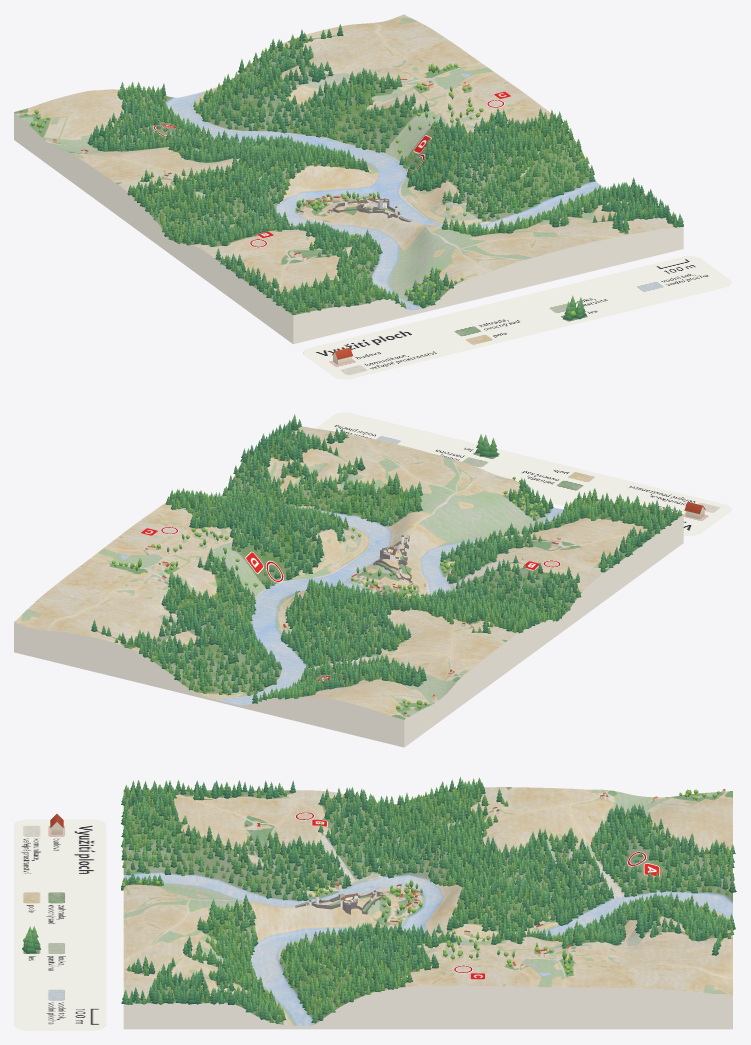
Rendered from Zvikov_sada1_CO.glb.
3 renders of one model, top to bottom at view 1: azimuth 30°, elevation 25°; view 2: azimuth 150°, elevation 25°; view 3: azimuth 270°, elevation 25°, orthographic. The views are drawn at different scales.
Visible parts, largest first — view 1: DMR_1953, Zvikov_stromy_body, legenda_panel, Node0, legenda_objekty; view 2: DMR_1953, Zvikov_stromy_body, legenda_panel, Node0, legenda_objekty; view 3: DMR_1953, Zvikov_stromy_body, legenda_panel, Node0, Budovy_vyber_—_co_final_all_dissolve_budovy, legenda_objekty.
Boxes of the visible parts, <box> form: DMR_1953: <box>14,14,683,344</box>; Zvikov_stromy_body: <box>24,24,683,314</box>; legenda_panel: <box>303,256,731,379</box>; Node0: <box>327,197,411,222</box>; legenda_objekty: <box>332,295,586,365</box>; DMR_1953: <box>14,426,683,747</box>; Zvikov_stromy_body: <box>91,414,682,713</box>; legenda_panel: <box>315,412,731,535</box>; Node0: <box>373,535,413,584</box>; legenda_objekty: <box>475,434,705,519</box>; DMR_1953: <box>123,787,732,1029</box>; Zvikov_stromy_body: <box>121,776,736,1023</box>; legenda_panel: <box>14,819,106,1030</box>; Node0: <box>295,890,385,914</box>; Budovy_vyber_—_co_final_all_dissolve_budovy: <box>245,789,725,968</box>; legenda_objekty: <box>22,814,63,953</box>.
Bounding box in the file's own units: 1490 × 182 × 2153.
Materials: 10 (6 with a texture image).
